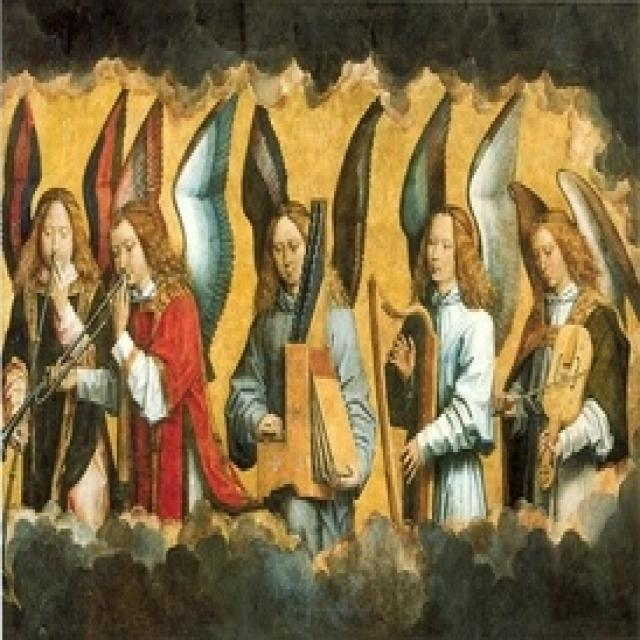angel: (230, 115, 382, 553), (396, 110, 516, 535), (2, 127, 122, 538), (525, 132, 640, 550)
